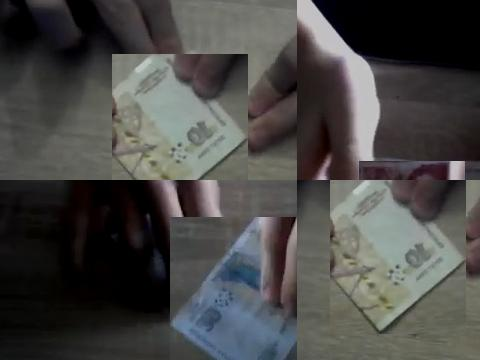10leva: (330, 180, 466, 334), (112, 54, 248, 180)
20leva: (170, 217, 297, 360)
